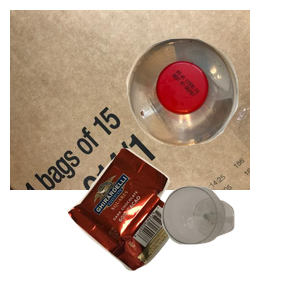cardboard: (10, 10, 250, 190)
glass: (159, 184, 300, 300)
plastic: (124, 36, 300, 175)
trash: (65, 145, 242, 300)
